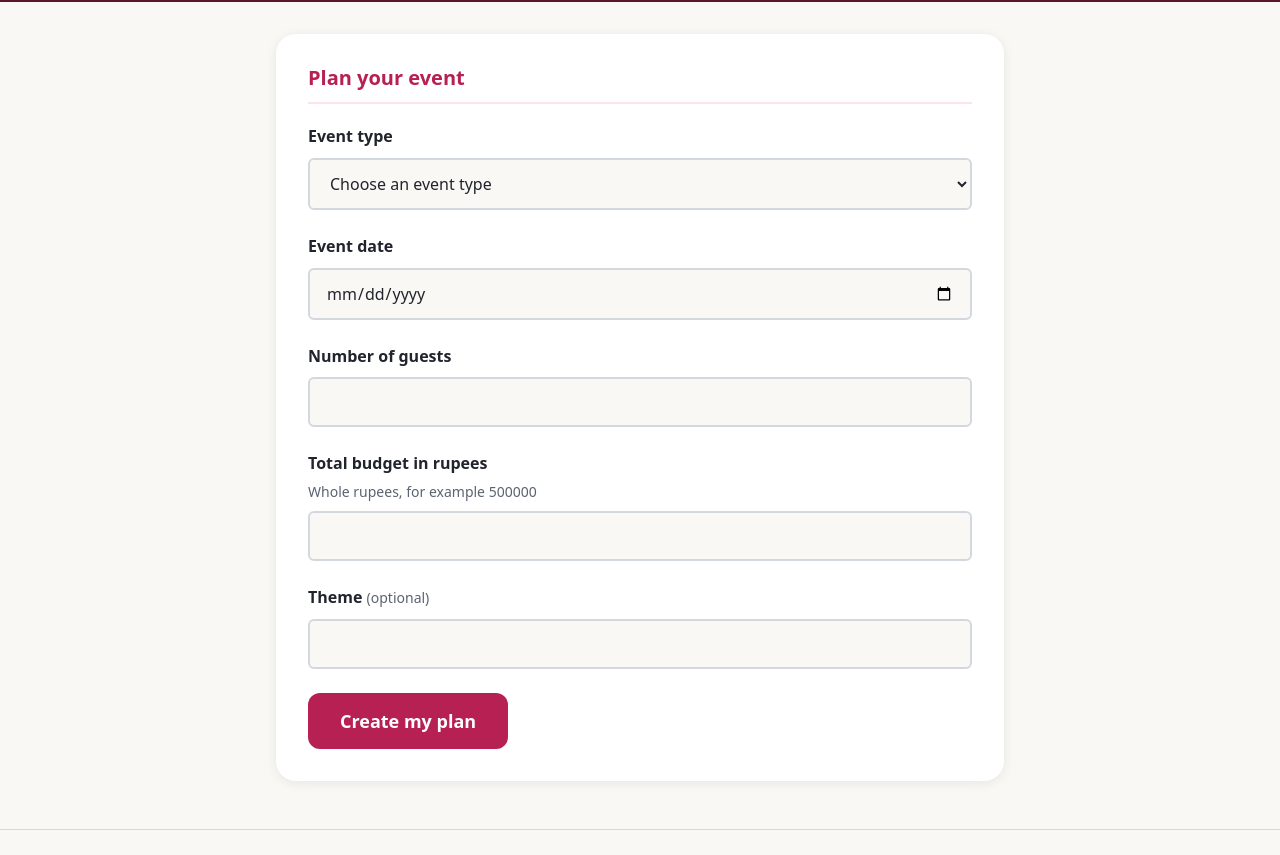
Test case: App form validation › shows an error summary and focuses the first invalid field
(page scrolled)
What coordinates should you click on to do the following:
click the button "Create my plan"
I would click on:
 (408, 721)
Its box is [308, 693, 508, 749].
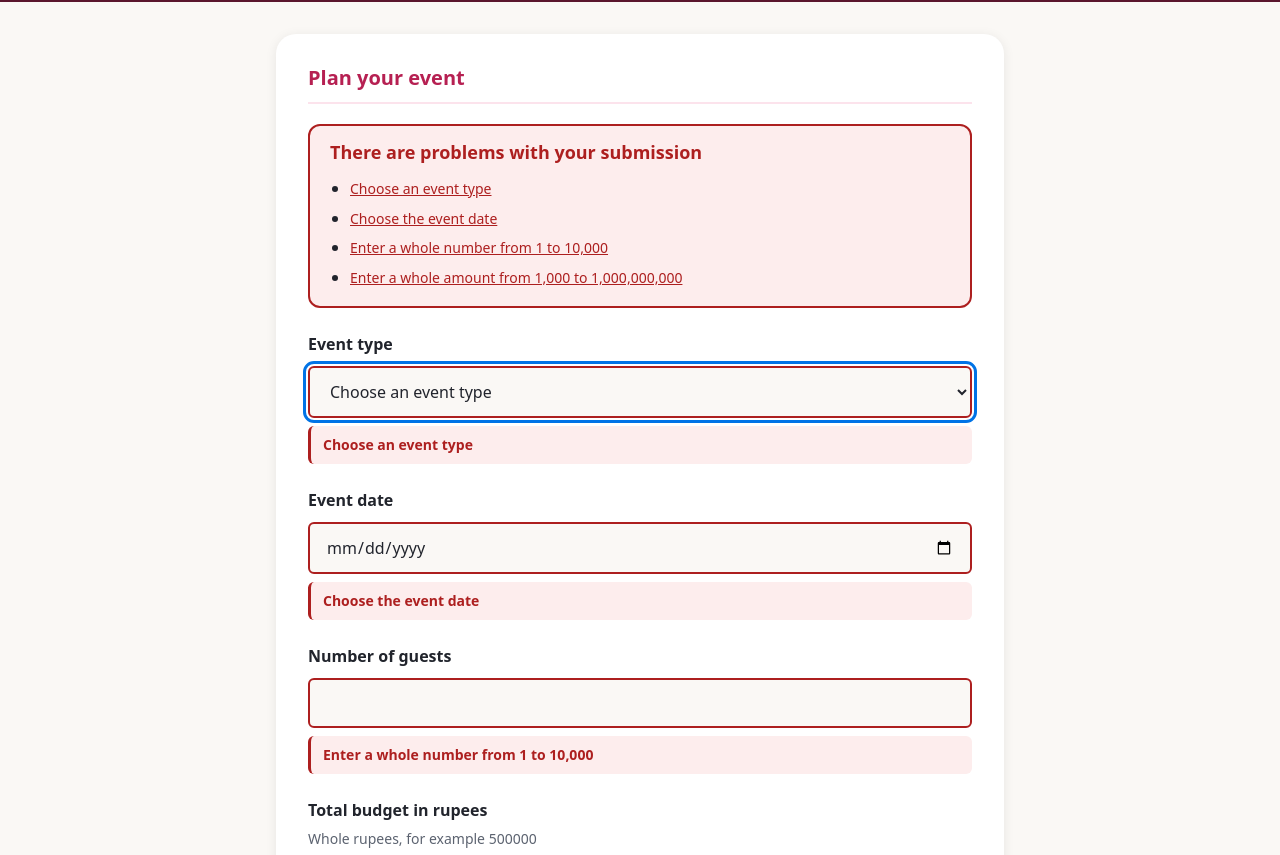
Now the message shows "There are problems with your submission", box [330, 140, 702, 164]
Now the link "Choose an event type" is shown, box [350, 179, 492, 198]
